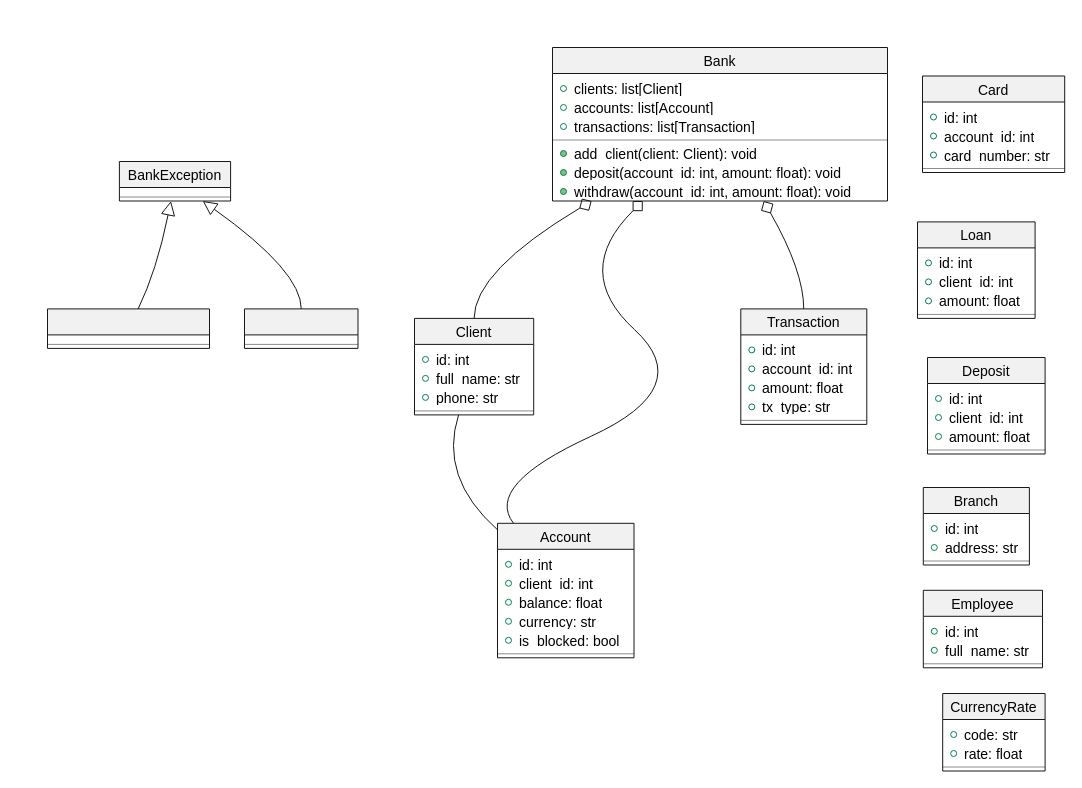
The diagram is 1082 pixels wide and 788 high, and some of its shapes have lost their labels. Each missing label, with the centre of its shape:
"InsufficientFundsError" goes at (128,328).
"ValidationError" goes at (301,328).
